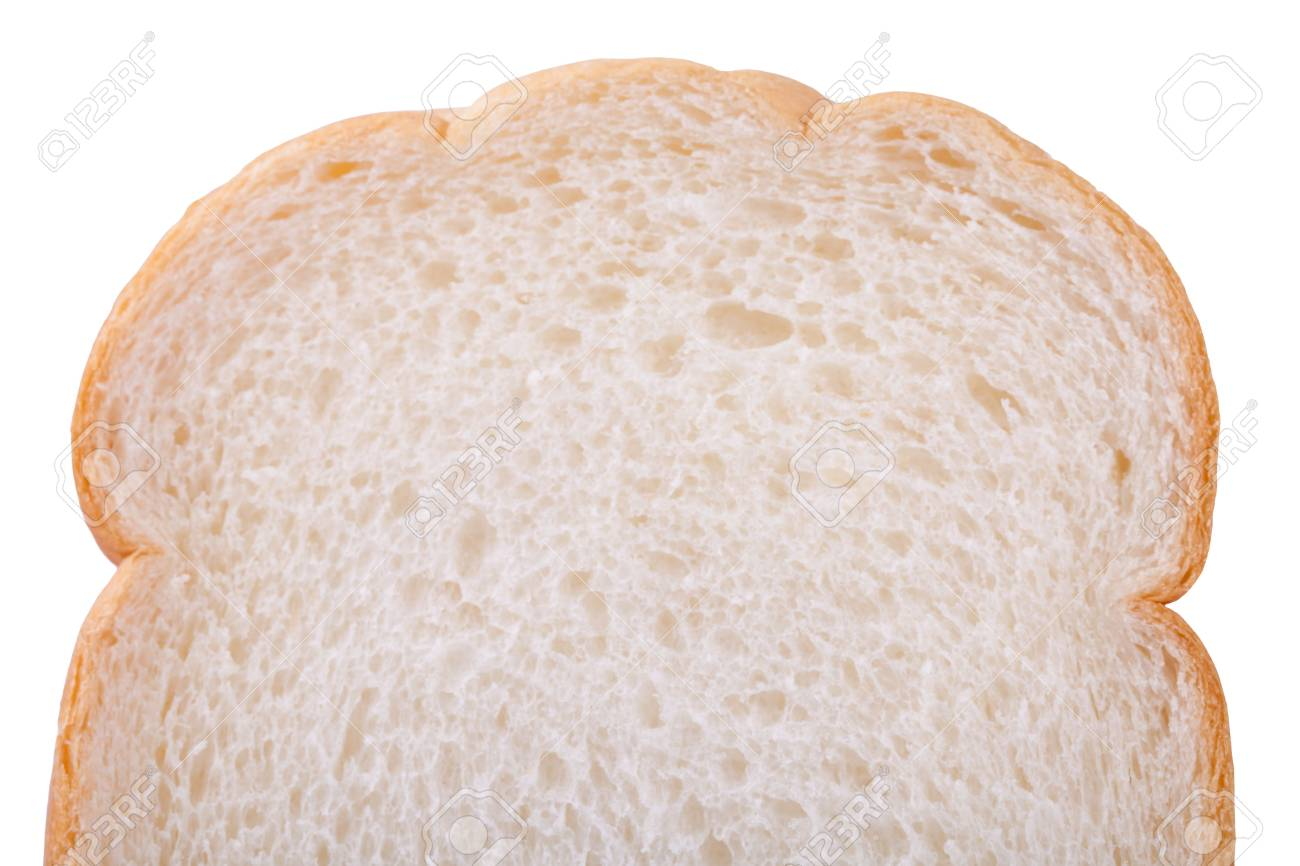slice of bread: (60, 46, 1246, 864)
